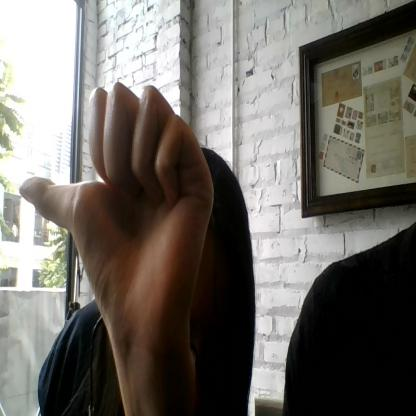right: (19, 83, 214, 329)
